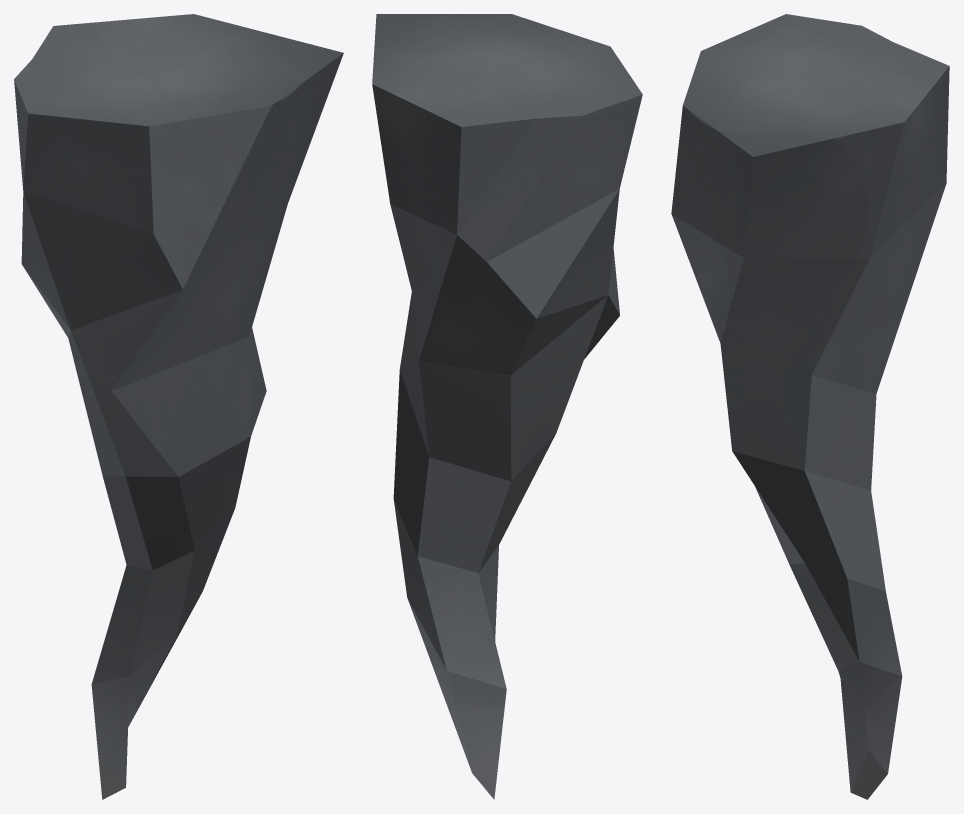
The model's file is Stalagtite_Med.fbx.
3 renders of one model, left to right at view 1: azimuth 30°, elevation 25°; view 2: azimuth 150°, elevation 25°; view 3: azimuth 270°, elevation 25°, orthographic. The views are drawn at different scales.
Visible parts, largest first — view 1: Stalagtite_Med; view 2: Stalagtite_Med; view 3: Stalagtite_Med.
Boxes of the visible parts, x1,y1,x2,y2 form: Stalagtite_Med: (14,14,343,799); Stalagtite_Med: (372,14,642,799); Stalagtite_Med: (671,14,949,799).
Size of the model in its own units: 72.1 by 172 by 59.26.
